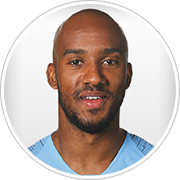smile: (79, 94, 107, 105)
